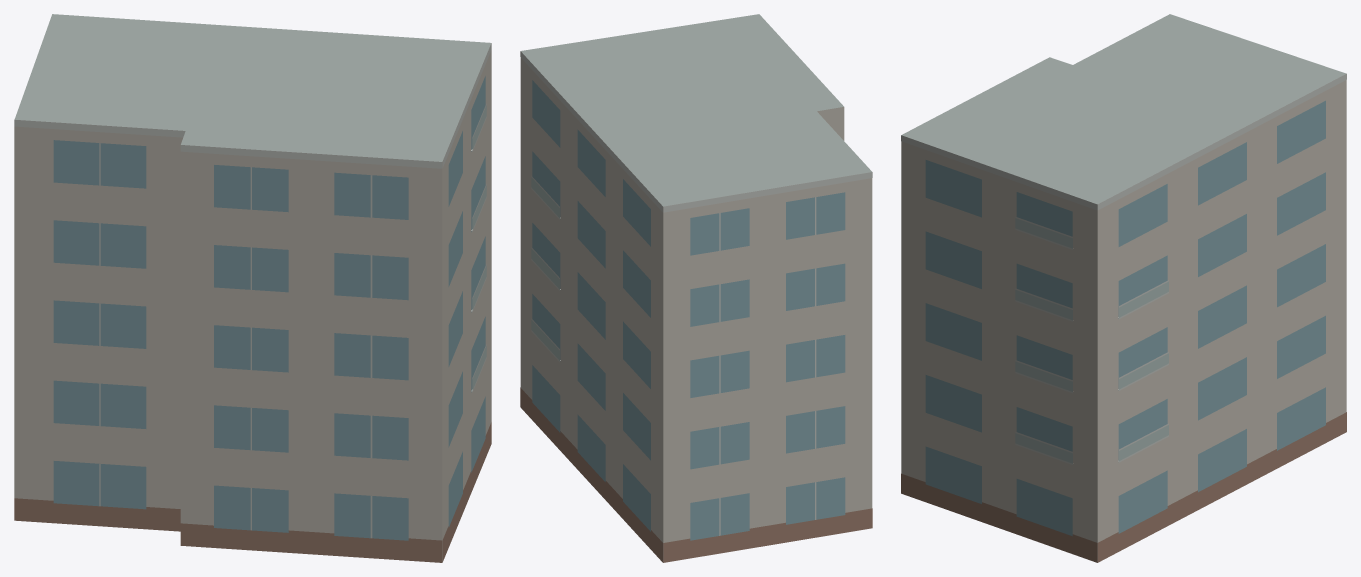
The model's file is survey-upis-32534670.glb.
3 renders of one model, left to right at view 1: azimuth 30°, elevation 25°; view 2: azimuth 150°, elevation 25°; view 3: azimuth 270°, elevation 25°, orthographic. The views are drawn at different scales.
Parts seen in each view (by area): view 1: survey-upis-32534670.tmp; view 2: survey-upis-32534670.tmp; view 3: survey-upis-32534670.tmp.
Part boxes in pixels (x1,y1,x2,y2): survey-upis-32534670.tmp: (14, 14, 491, 562); survey-upis-32534670.tmp: (520, 14, 872, 562); survey-upis-32534670.tmp: (901, 14, 1346, 562).
Bounding box in the file's own units: 16.36 × 14.35 × 16.17.
